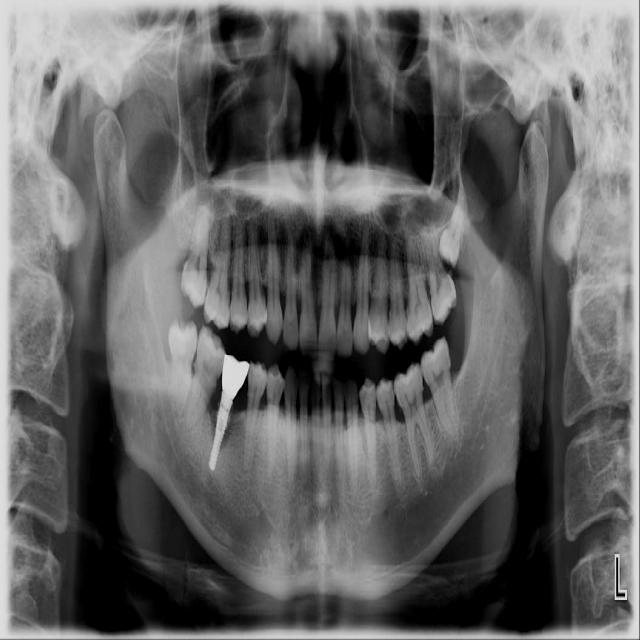Crown: (222, 355, 249, 405)
Implant: (207, 400, 231, 472)
impacted tooth: (166, 321, 197, 421), (438, 173, 467, 266)
